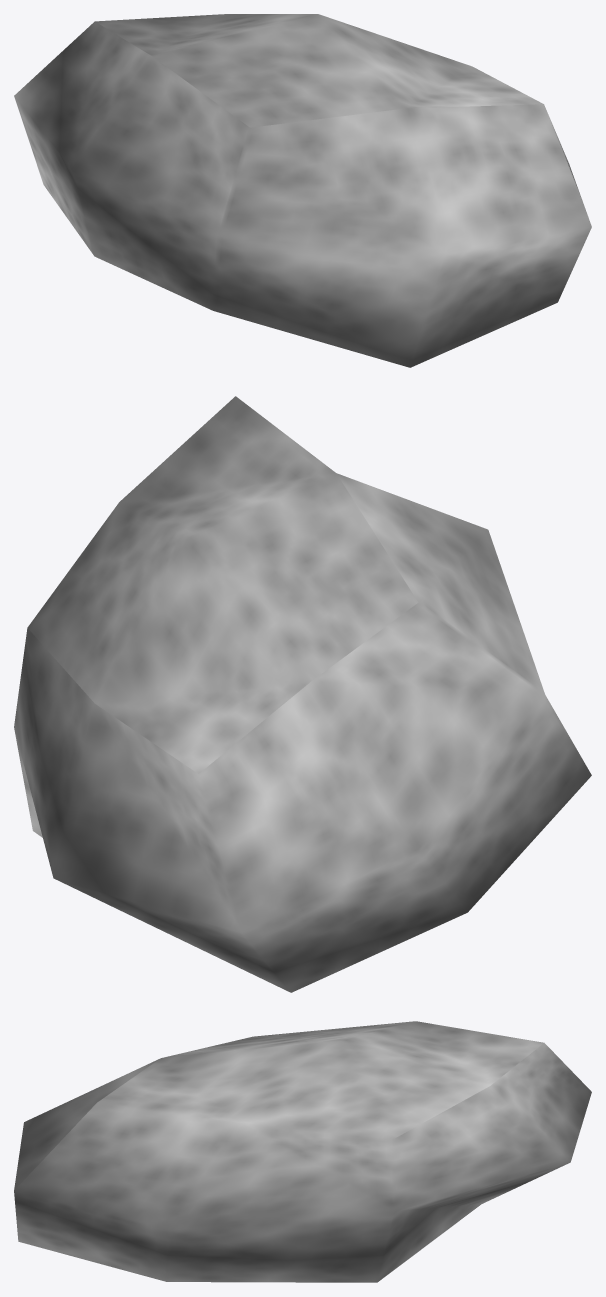
Rendered from rock0.glb.
3 renders of one model, top to bottom at view 1: azimuth 30°, elevation 25°; view 2: azimuth 150°, elevation 25°; view 3: azimuth 270°, elevation 25°, orthographic. The views are drawn at different scales.
Visible parts, largest first — view 1: Rock; view 2: Rock; view 3: Rock.
Boxes of the visible parts, box(x1,y1,x2,y2) form: Rock: box(14, 14, 591, 367); Rock: box(14, 396, 591, 992); Rock: box(14, 1021, 591, 1282).
Bounding box in the file's own units: 1.64 × 1.02 × 2.36.
Materials: 1 (1 with a texture image).
